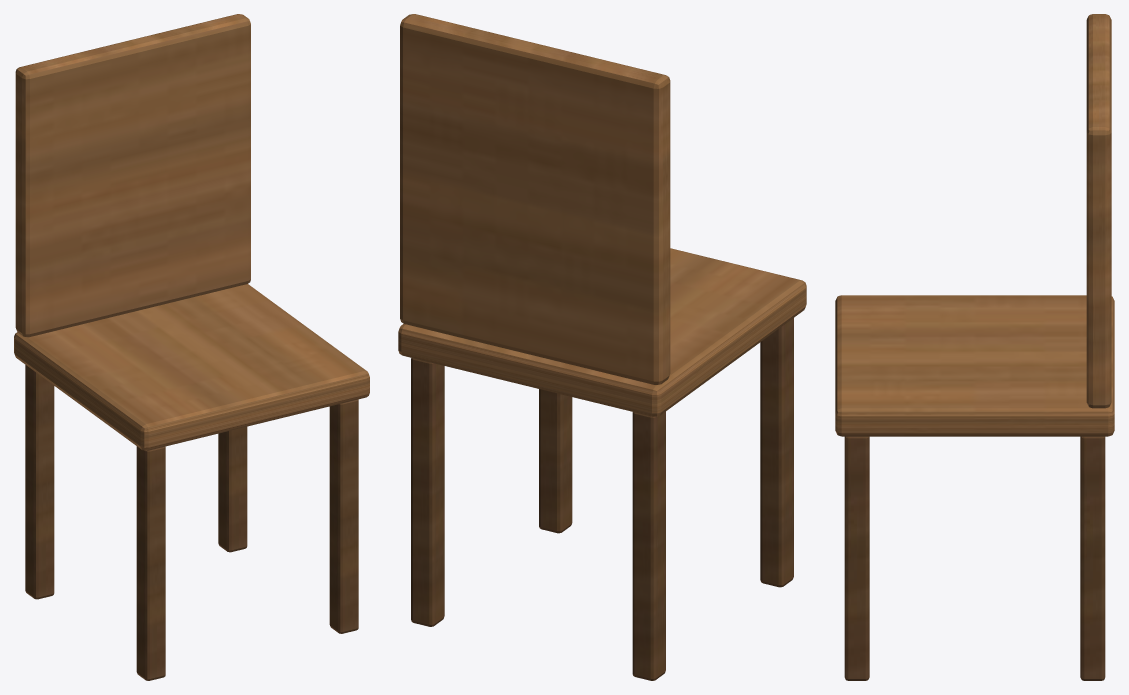
The model's file is chair.glb.
The picture shows the model from 3 angles, left to right: view 1: azimuth 30°, elevation 25°; view 2: azimuth 150°, elevation 25°; view 3: azimuth 270°, elevation 25°; orthographic projection. The views are drawn at different scales.
Visible parts, largest first — view 1: back.001, seat, leg-11.002, leg11.002, leg-1-1.002, leg1-1.002; view 2: back.001, seat, leg-1-1.002, leg1-1.002, leg-11.002, leg11.002; view 3: seat, back.001, leg1-1.002, leg11.002.
Part boxes in pixels (box(x1,y1,x2,y2)): back.001: box(15, 14, 250, 337); seat: box(14, 284, 369, 450); leg-11.002: box(136, 446, 165, 680); leg11.002: box(329, 399, 358, 633); leg-1-1.002: box(25, 365, 54, 599); leg1-1.002: box(218, 426, 247, 552); back.001: box(400, 14, 670, 384); seat: box(398, 248, 806, 416); leg-1-1.002: box(632, 411, 665, 680); leg1-1.002: box(411, 358, 444, 626); leg-11.002: box(760, 318, 793, 587); leg11.002: box(539, 389, 572, 533); seat: box(835, 295, 1114, 436); back.001: box(1086, 14, 1111, 408); leg1-1.002: box(1080, 436, 1105, 680); leg11.002: box(844, 436, 869, 680).
Size of the model in its own units: 0.45 by 0.99 by 0.45.
2 materials, 2 textured.
